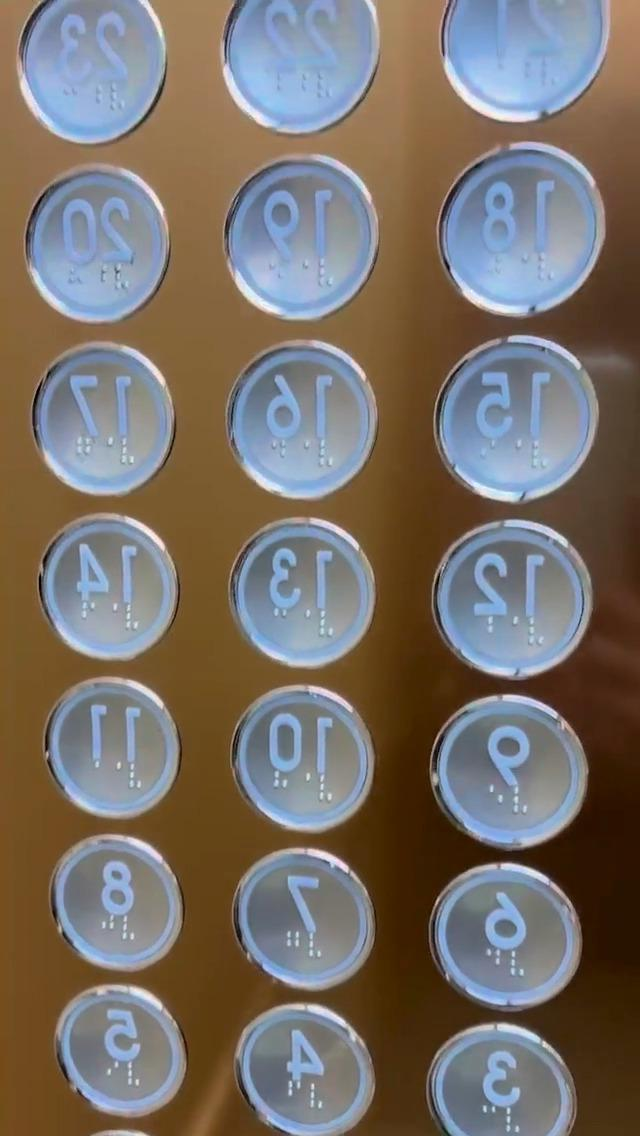button: (436, 333, 617, 507), (437, 140, 610, 320), (224, 324, 380, 500), (421, 0, 637, 127), (221, 159, 379, 329), (17, 163, 171, 337), (430, 520, 591, 676), (430, 703, 591, 850), (236, 679, 380, 837), (230, 516, 371, 667), (433, 869, 580, 1009), (29, 350, 169, 493), (220, 0, 377, 127), (43, 676, 180, 817), (240, 849, 373, 986), (16, 0, 157, 129), (39, 526, 170, 656), (430, 1021, 574, 1136), (50, 839, 180, 963), (237, 1014, 361, 1136), (51, 997, 170, 1109)
